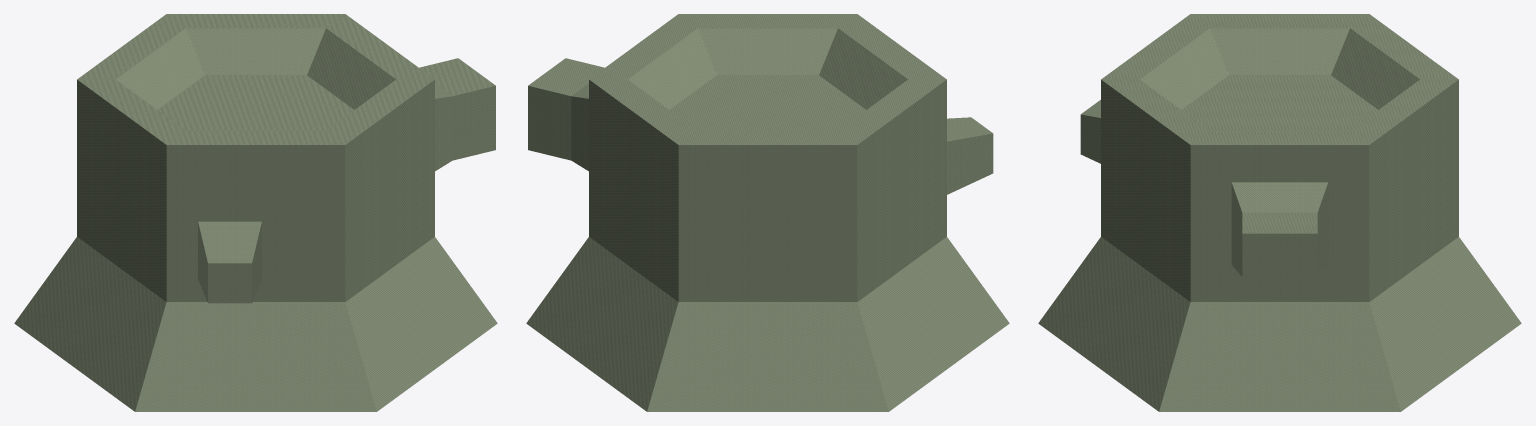
The model's file is stump.glb.
The picture shows the model from 3 angles, left to right: view 1: azimuth 30°, elevation 25°; view 2: azimuth 150°, elevation 25°; view 3: azimuth 270°, elevation 25°; orthographic projection.
Visible parts, largest first — view 1: Tpl_stump_stump_roundDetailed; view 2: Tpl_stump_stump_roundDetailed; view 3: Tpl_stump_stump_roundDetailed.
Boxes of the visible parts, x1,y1,x2,y2 form: Tpl_stump_stump_roundDetailed: (14,14,497,411); Tpl_stump_stump_roundDetailed: (526,14,1009,411); Tpl_stump_stump_roundDetailed: (1038,14,1521,411).
Bounding box in the file's own units: 0.9496 × 0.55 × 0.9881.
1 material, 1 textured.
